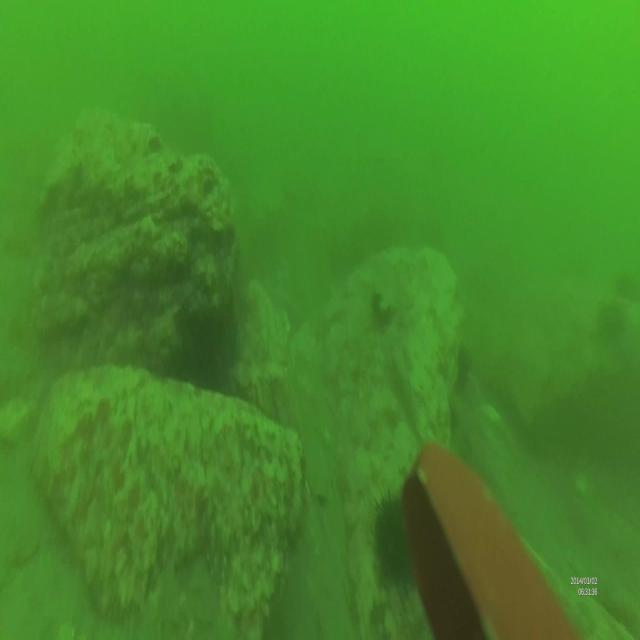echinus: (371, 492, 414, 586)
